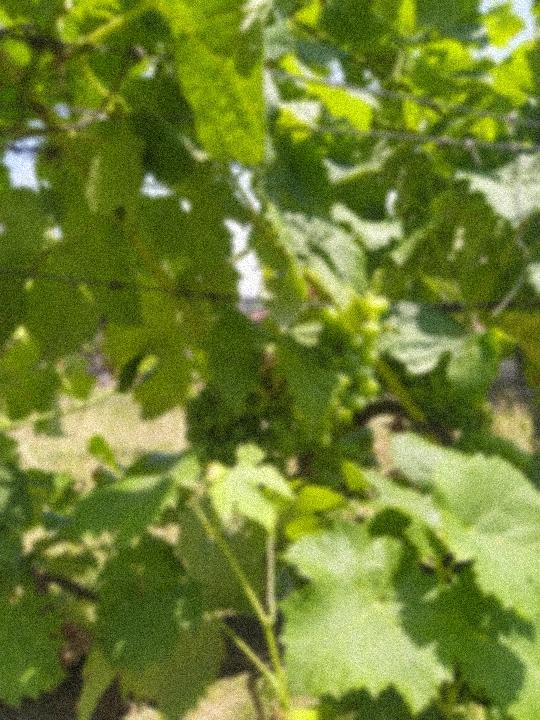grape: (314, 286, 393, 426), (184, 377, 268, 469)
